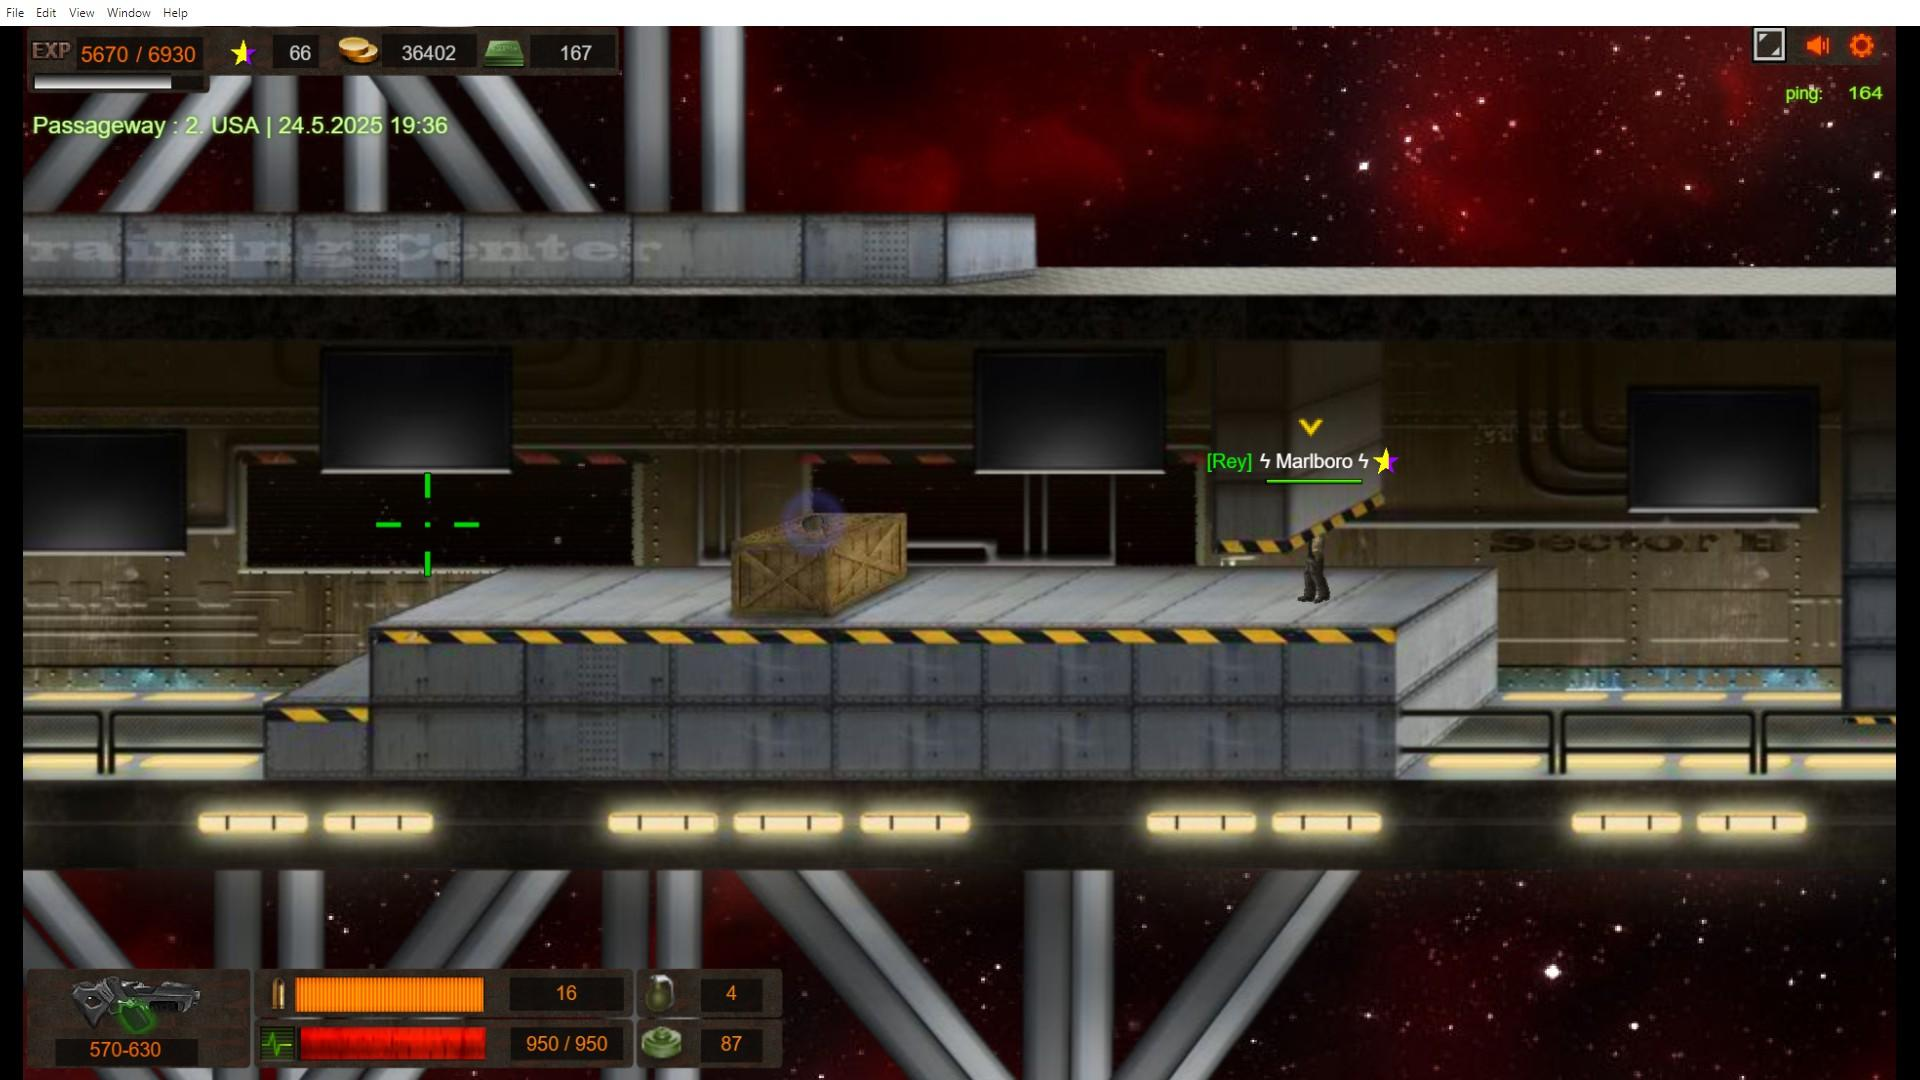enemy: (1302, 510, 1328, 603)
